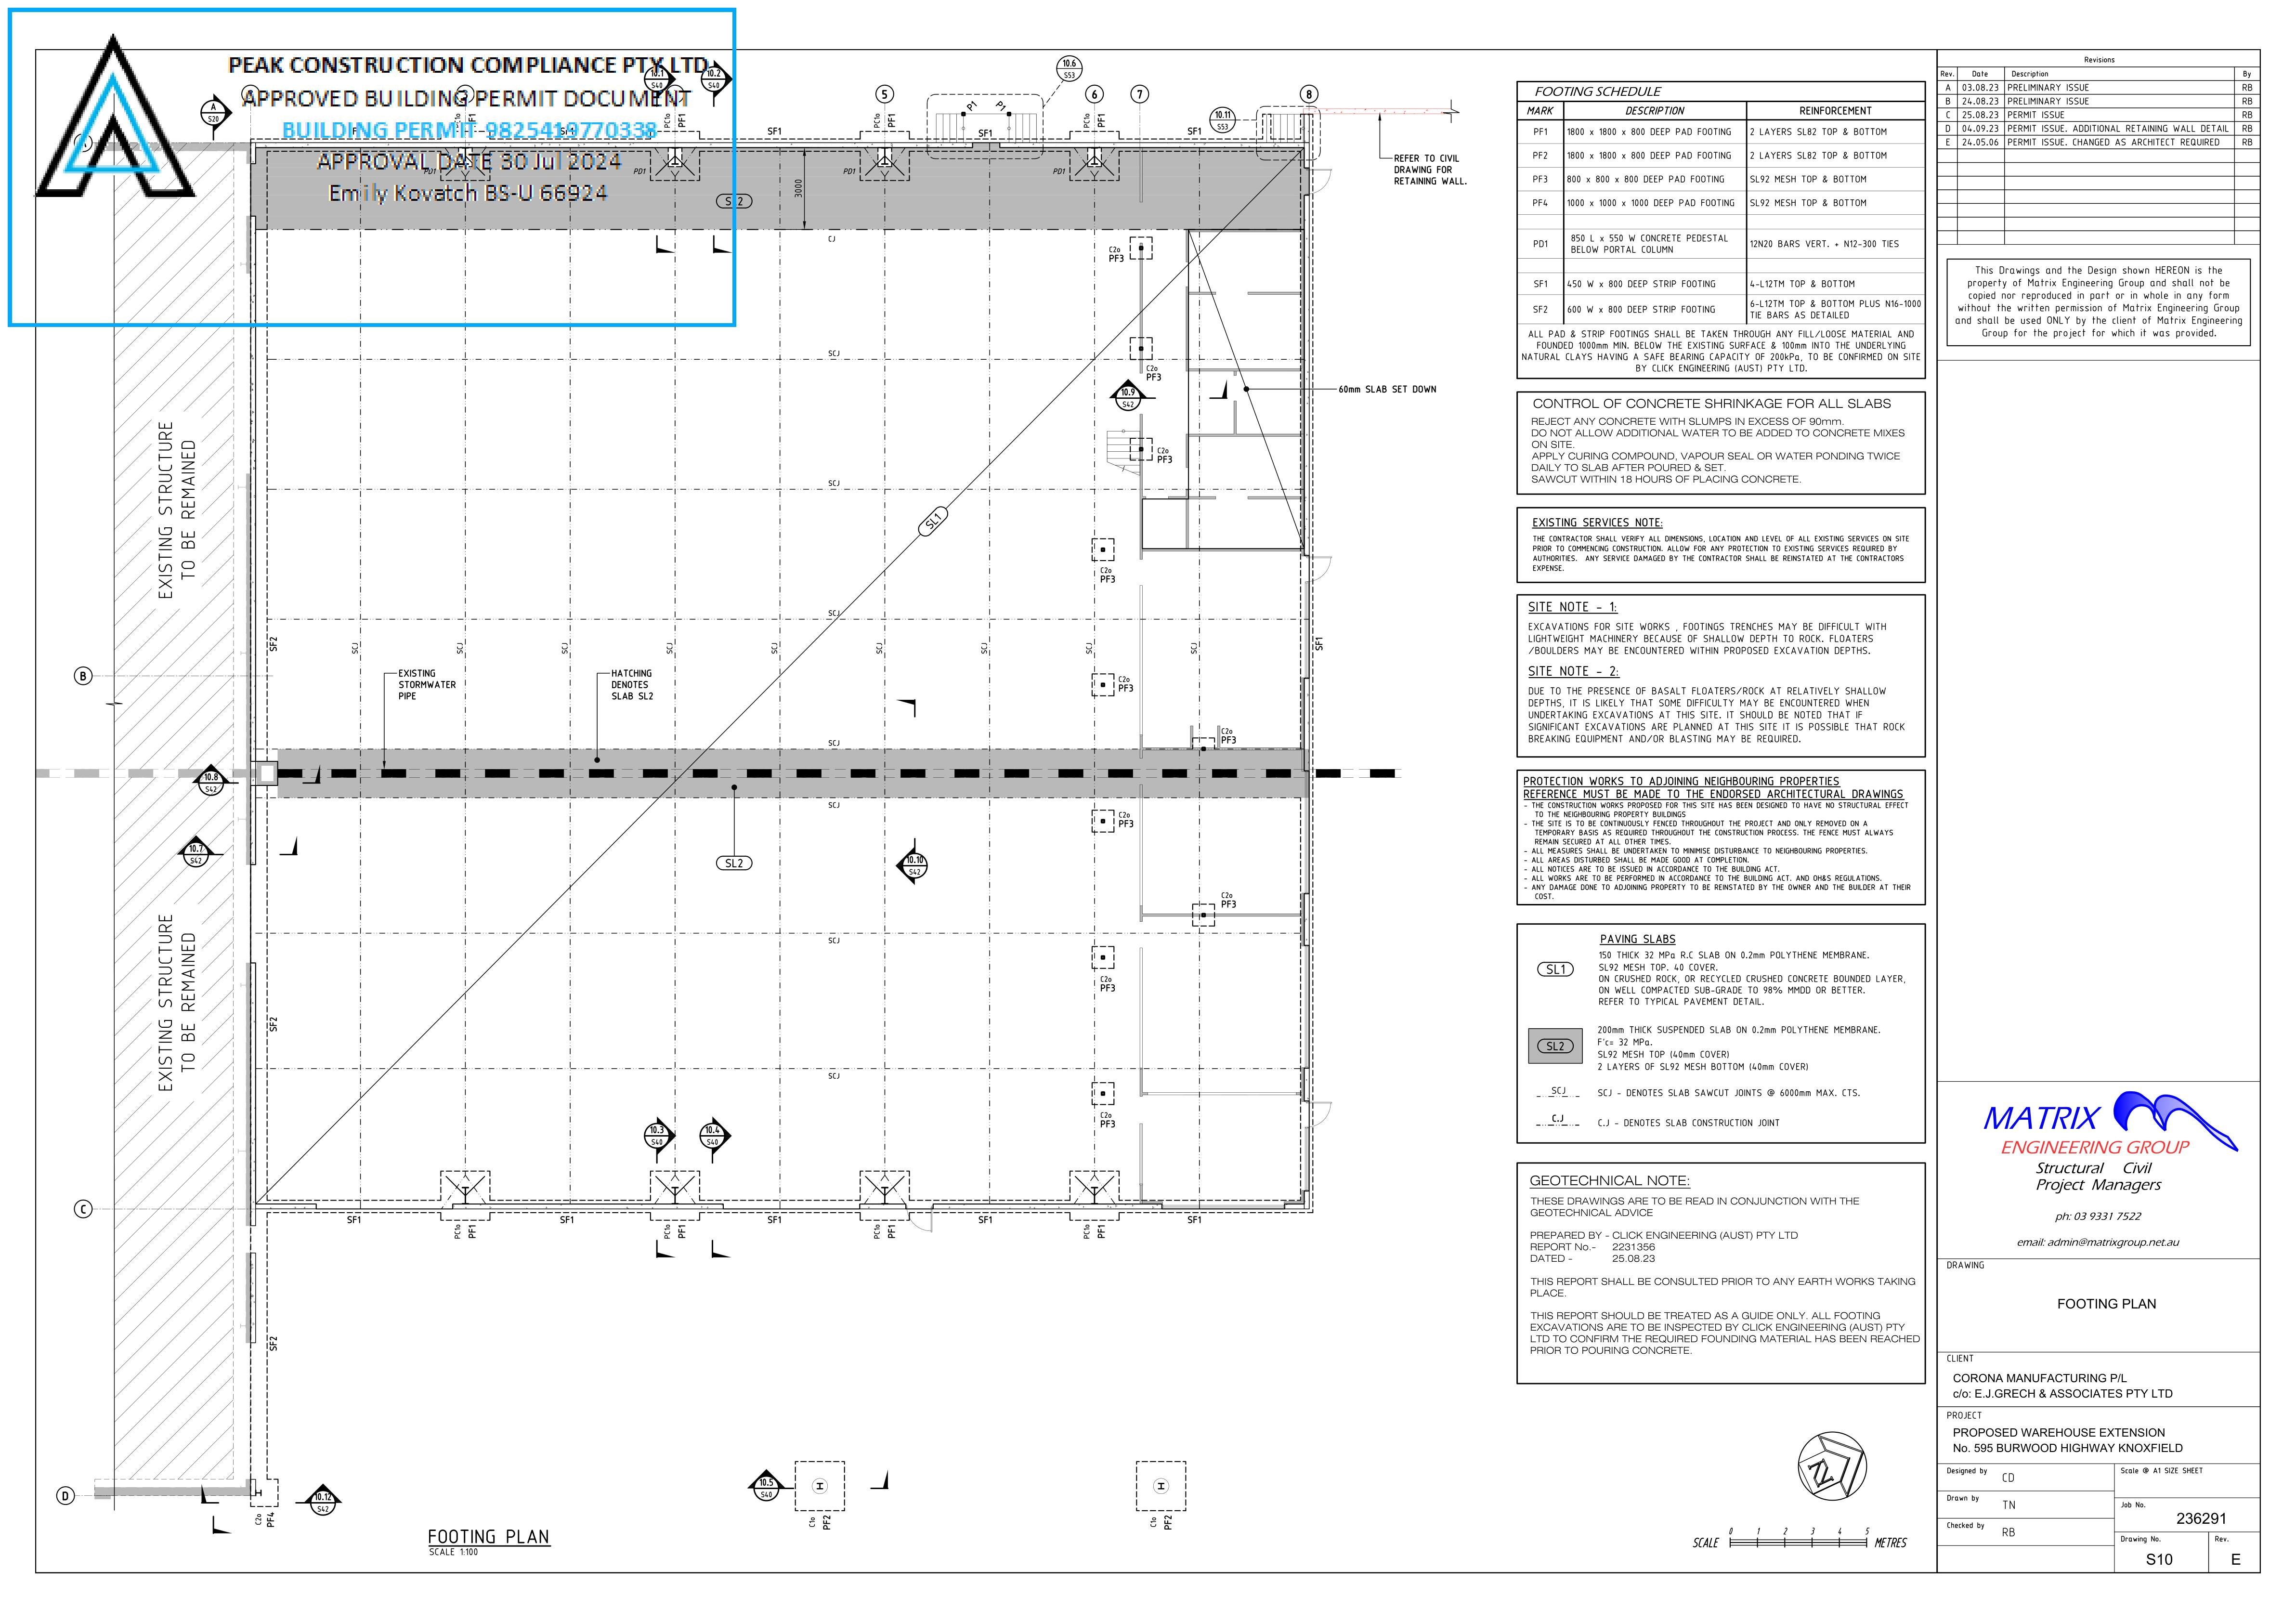P1: (992, 97, 1008, 112), (964, 97, 979, 111)
PF1: (465, 111, 479, 135), (674, 1222, 692, 1241), (463, 1220, 479, 1241), (1095, 1222, 1109, 1243), (885, 109, 900, 126), (678, 111, 692, 130), (1097, 112, 1109, 128), (888, 1224, 897, 1238)
PF3: (1106, 249, 1127, 265), (1095, 1120, 1122, 1132), (1097, 983, 1120, 997), (1095, 572, 1118, 586), (1218, 736, 1241, 748), (1118, 818, 1137, 830), (1146, 370, 1164, 383), (1220, 899, 1239, 909), (1155, 455, 1174, 465), (1118, 685, 1137, 695)
PF4: (265, 1511, 277, 1529)
SF1: (764, 1213, 797, 1234), (764, 121, 788, 139), (976, 1211, 999, 1229), (341, 1213, 369, 1227), (1187, 1213, 1211, 1229), (1181, 125, 1208, 139), (562, 1211, 579, 1229), (1315, 635, 1329, 657), (976, 126, 997, 137), (558, 125, 578, 135)
SF2: (263, 1013, 283, 1034), (267, 634, 284, 655), (269, 1334, 284, 1353)
